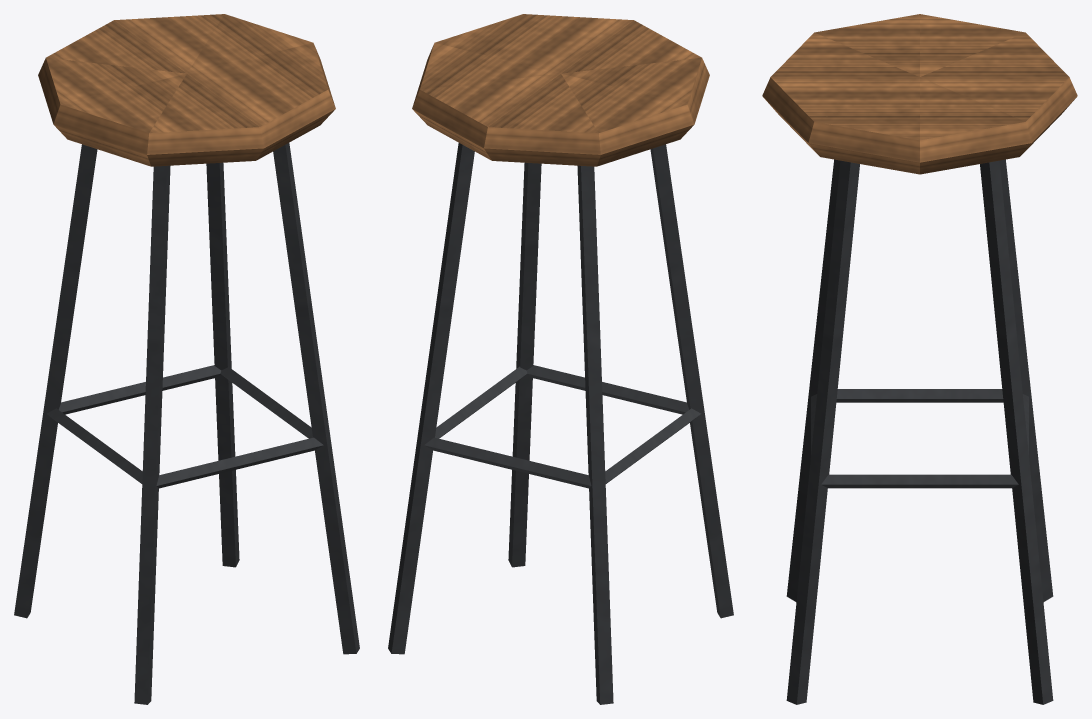
Rendered from SM_Morin_Sgabello_LOD1.fbx.
3 renders of one model, left to right at view 1: azimuth 30°, elevation 25°; view 2: azimuth 150°, elevation 25°; view 3: azimuth 270°, elevation 25°, orthographic. The views are drawn at different scales.
Parts seen in each view (by area): view 1: SM_Morin_Sgabello_LOD1; view 2: SM_Morin_Sgabello_LOD1; view 3: SM_Morin_Sgabello_LOD1.
Part boxes in pixels (bbox=[...]): SM_Morin_Sgabello_LOD1: bbox=[14, 14, 359, 704]; SM_Morin_Sgabello_LOD1: bbox=[388, 14, 733, 704]; SM_Morin_Sgabello_LOD1: bbox=[762, 14, 1077, 704].
Bounding box in the file's own units: 38 × 38 × 76.11.
Materials: 1 (1 with a texture image).
